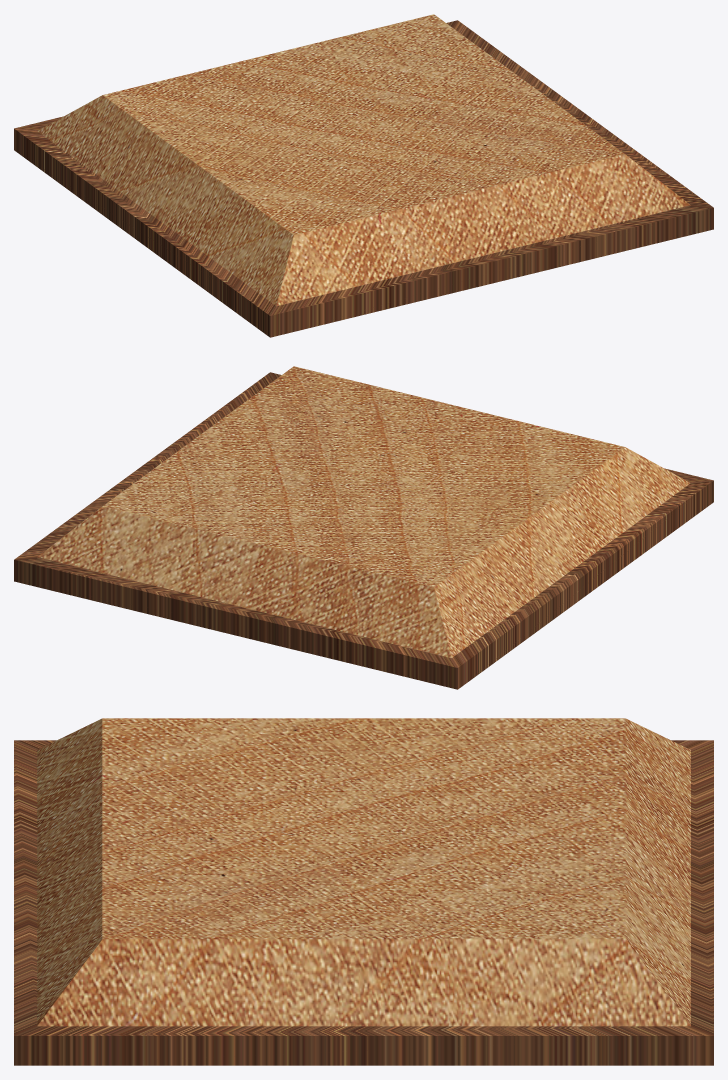
The model's file is Square.FBX.
3 views of the same model, one above another, from view 1: azimuth 30°, elevation 25°; view 2: azimuth 150°, elevation 25°; view 3: azimuth 270°, elevation 25° (orthographic). The views are drawn at different scales.
Visible parts, largest first — view 1: Square; view 2: Square; view 3: Square.
Part boxes in pixels (<box>): Square: <box>14,14,713,337</box>; Square: <box>14,366,713,689</box>; Square: <box>14,718,713,1065</box>.
Size of the model in its own units: 10.71 by 10.71 by 1.5.
